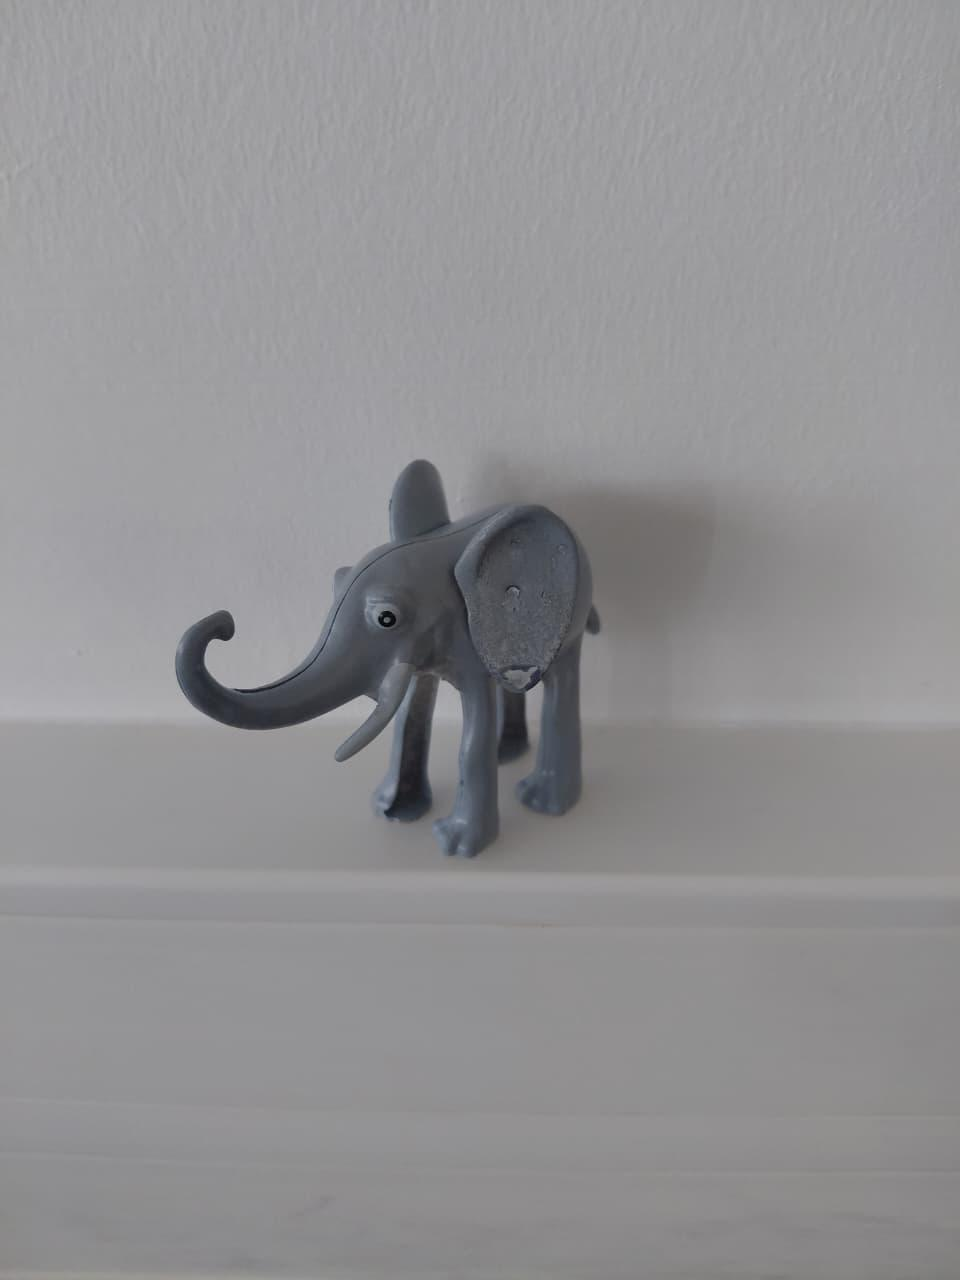elephant: (132, 368, 694, 903)
